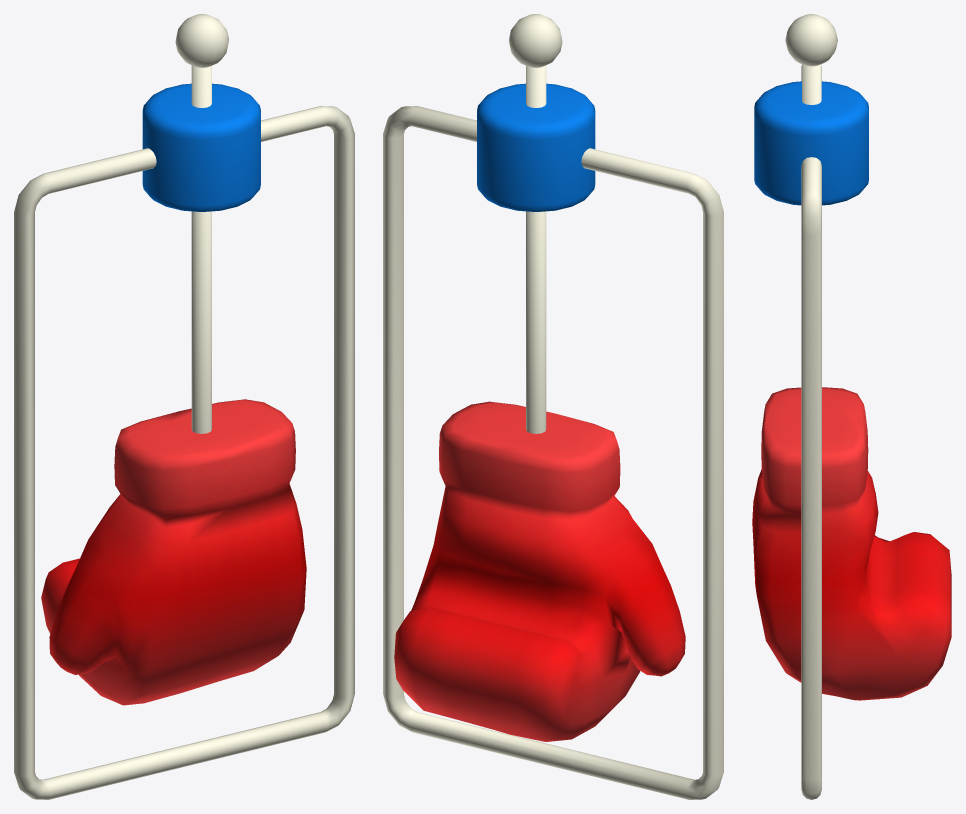
File: obstacle_2.fbx
3 views of the same model, side by side, from view 1: azimuth 30°, elevation 25°; view 2: azimuth 150°, elevation 25°; view 3: azimuth 270°, elevation 25° (orthographic). The views are drawn at different scales.
Visible parts, largest first — view 1: obstacle_2_b, obstacle_2_a; view 2: obstacle_2_b, obstacle_2_a; view 3: obstacle_2_b, obstacle_2_a.
Boxes of the visible parts, box(x1,y1,x2,y2) form: obstacle_2_b: box(41, 14, 306, 705); obstacle_2_a: box(14, 83, 354, 799); obstacle_2_b: box(394, 14, 685, 741); obstacle_2_a: box(383, 83, 723, 799); obstacle_2_b: box(752, 14, 951, 700); obstacle_2_a: box(754, 65, 868, 799).
Size of the model in its own units: 5.18 by 10.91 by 2.72.
